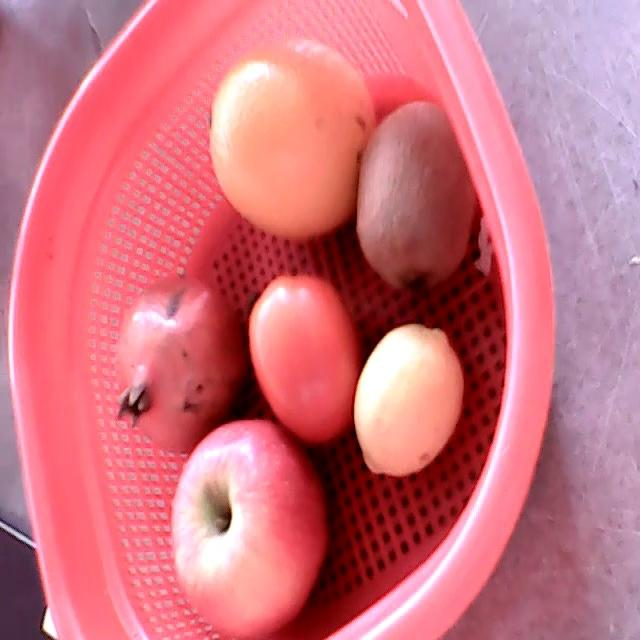apple: (171, 418, 329, 639)
kiwi: (356, 100, 475, 296)
lemon: (353, 324, 465, 478)
orange: (207, 31, 376, 240)
pomegranate: (111, 273, 245, 453)
tomato: (248, 273, 362, 445)
